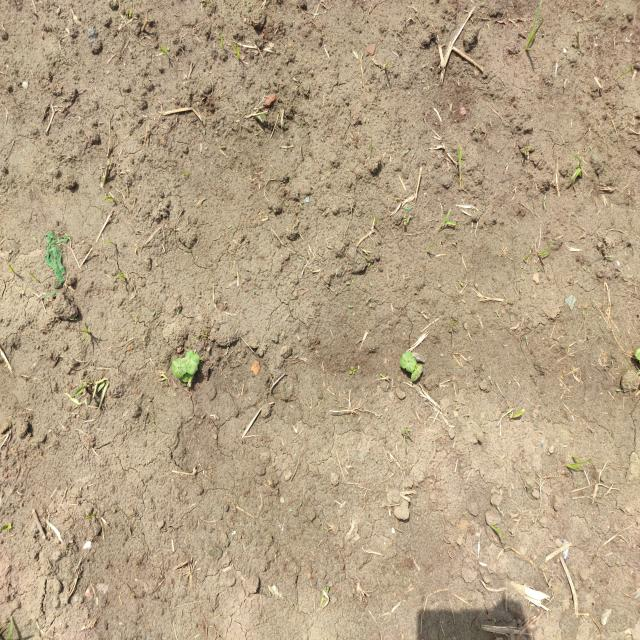seedling: (179, 357, 198, 375), (400, 351, 413, 369), (186, 350, 200, 365), (174, 364, 187, 379), (411, 365, 423, 381), (406, 356, 416, 373), (172, 358, 181, 375), (182, 374, 194, 382)
